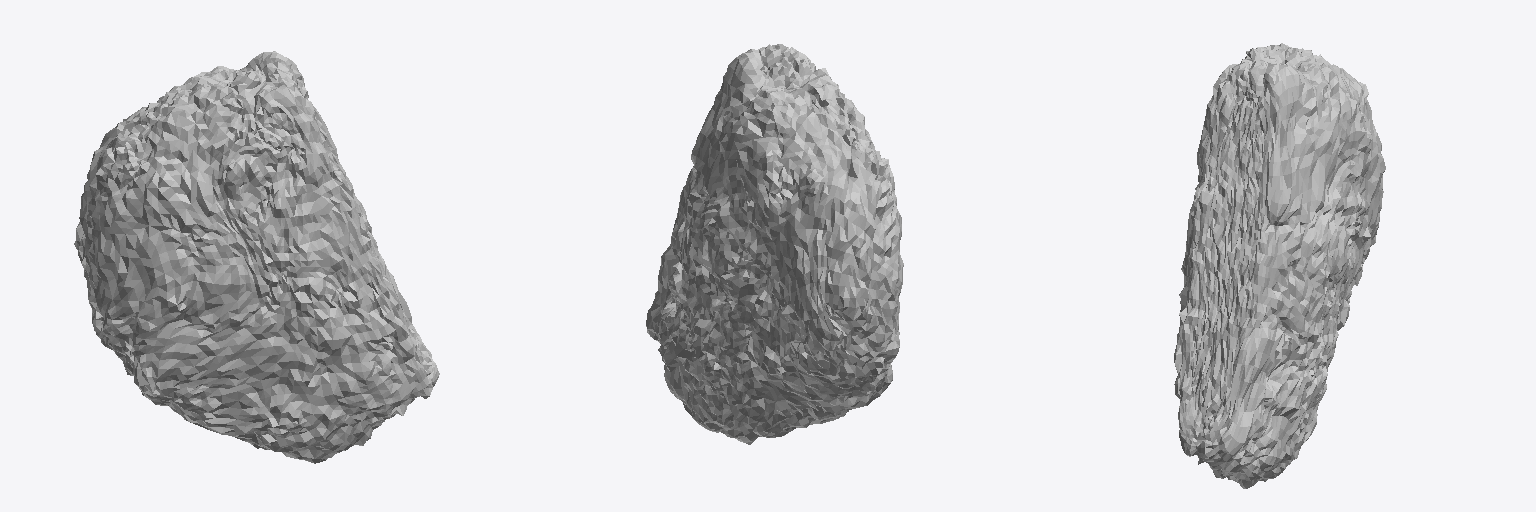
Rendered from Cireng_Cut.obj.
3 renders of one model, left to right at view 1: azimuth 30°, elevation 25°; view 2: azimuth 150°, elevation 25°; view 3: azimuth 270°, elevation 25°, orthographic.
Visible parts, largest first — view 1: NewCut_LP; view 2: NewCut_LP; view 3: NewCut_LP.
Part boxes in pixels (x1,y1,x2,y2): NewCut_LP: (74, 51, 439, 463); NewCut_LP: (646, 44, 903, 444); NewCut_LP: (1174, 43, 1385, 488).
Size of the model in its own units: 5.81 by 7.51 by 3.6.